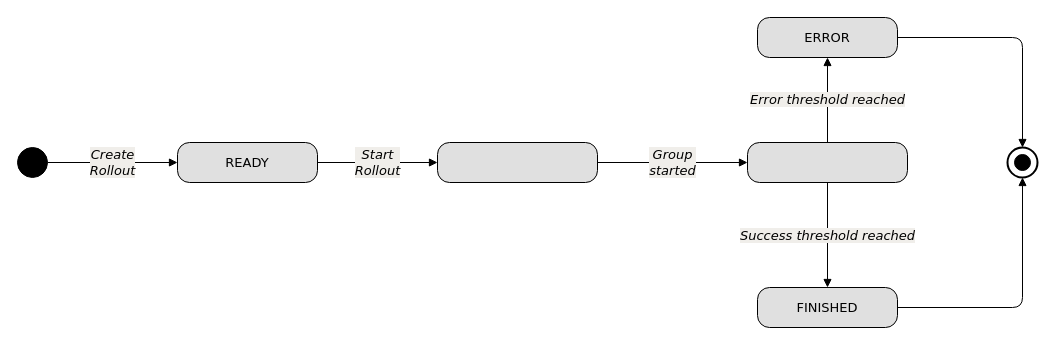
Image size: 1056x345. Some labels were removed from this diagram. Each missing label, with the box of its shape:
RUNNING: (746, 142, 908, 182)
SCHEDULED: (436, 142, 598, 182)
